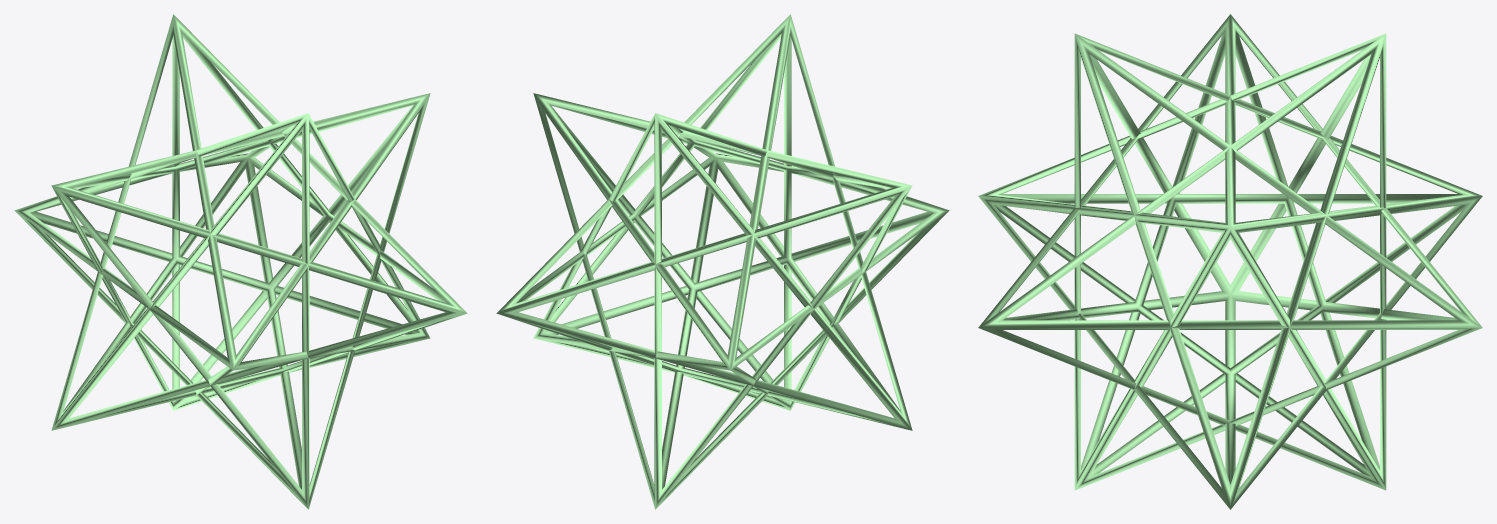
The model's file is SmallStellatedDodecahedron1.glb.
3 views of the same model, side by side, from view 1: azimuth 30°, elevation 25°; view 2: azimuth 150°, elevation 25°; view 3: azimuth 270°, elevation 25° (orthographic). The views are drawn at different scales.
Parts seen in each view (by area): view 1: SmallStellatedDodecahedron; view 2: SmallStellatedDodecahedron; view 3: SmallStellatedDodecahedron.
Part boxes in pixels (<box>): SmallStellatedDodecahedron: <box>14,14,467,509</box>; SmallStellatedDodecahedron: <box>496,14,949,509</box>; SmallStellatedDodecahedron: <box>978,14,1482,509</box>.
Bounding box in the file's own units: 1.02 × 1.02 × 1.02.
